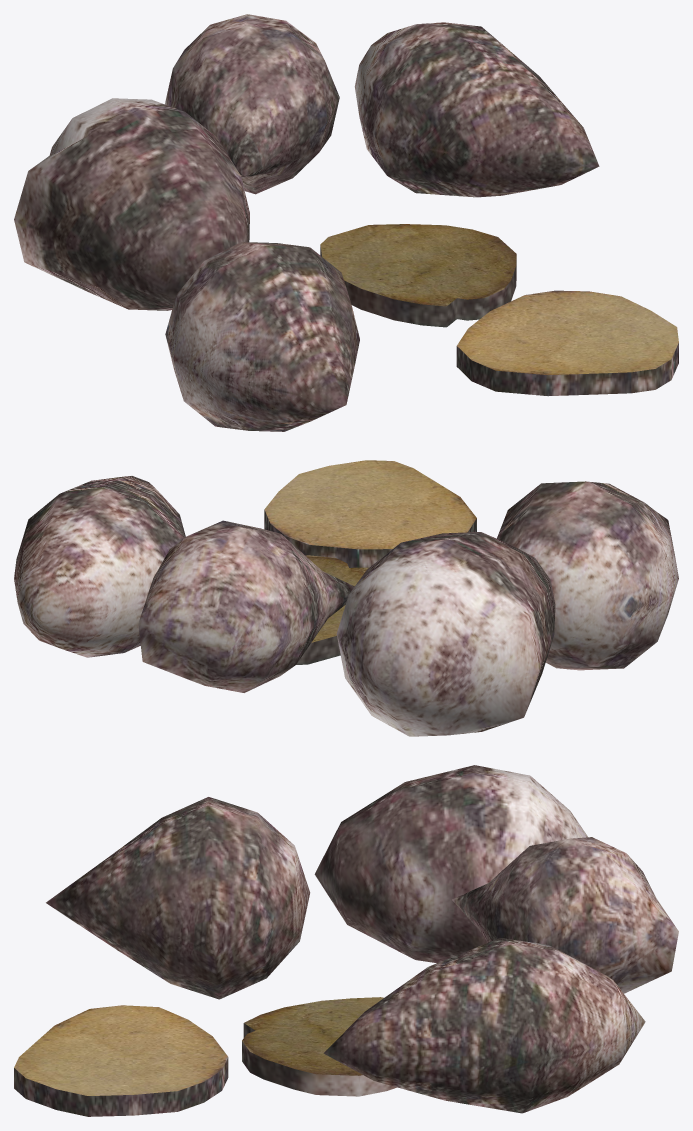
The model's file is sanleng.FBX.
3 renders of one model, top to bottom at view 1: azimuth 30°, elevation 25°; view 2: azimuth 150°, elevation 25°; view 3: azimuth 270°, elevation 25°, orthographic.
Visible parts, largest first — view 1: Sphere002, Sphere004, Sphere001, Sphere003, Line002, Line001; view 2: Sphere002, Sphere003, Sphere001, Sphere004, Line002, Line001; view 3: Sphere004, Sphere001, Sphere002, Sphere003, Line002, Line001.
Boxes of the visible parts, bbox=[...] form: Sphere002: bbox=[14, 98, 249, 310]; Sphere004: bbox=[354, 22, 599, 197]; Sphere001: bbox=[165, 242, 359, 431]; Sphere003: bbox=[165, 14, 339, 194]; Line002: bbox=[456, 290, 678, 396]; Line001: bbox=[320, 224, 516, 327]; Sphere002: bbox=[336, 532, 555, 736]; Sphere003: bbox=[138, 520, 354, 692]; Sphere001: bbox=[497, 481, 678, 670]; Sphere004: bbox=[14, 476, 185, 657]; Line002: bbox=[264, 460, 476, 567]; Line001: bbox=[296, 555, 368, 664]; Sphere004: bbox=[323, 938, 645, 1113]; Sphere001: bbox=[46, 797, 310, 999]; Sphere002: bbox=[314, 765, 587, 962]; Sphere003: bbox=[452, 837, 678, 993]; Line002: bbox=[14, 1005, 228, 1116]; Line001: bbox=[242, 997, 396, 1096].
Bounding box in the file's own units: 449 × 194 × 508.
Materials: 1 (1 with a texture image).
